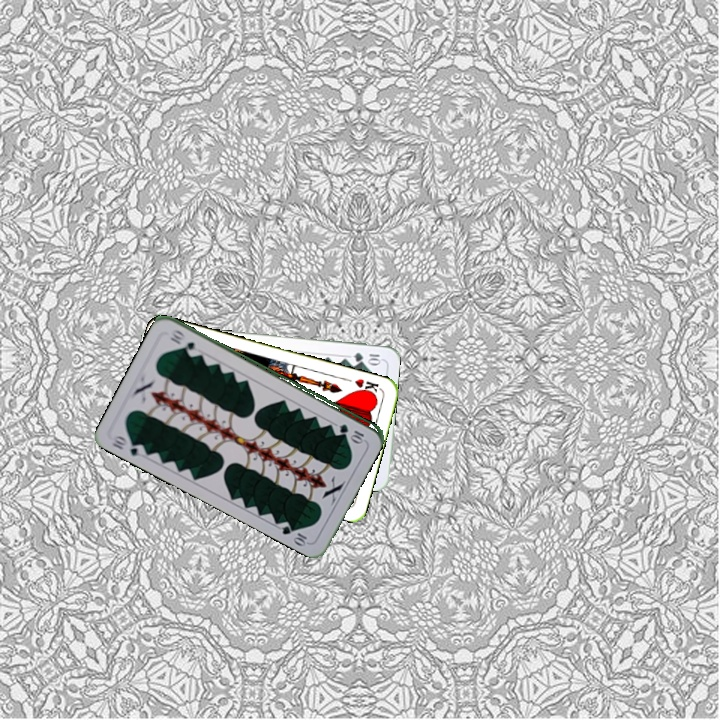G10: (108, 431, 148, 459), (335, 420, 366, 443), (349, 348, 383, 366)
HK: (351, 375, 383, 398)
